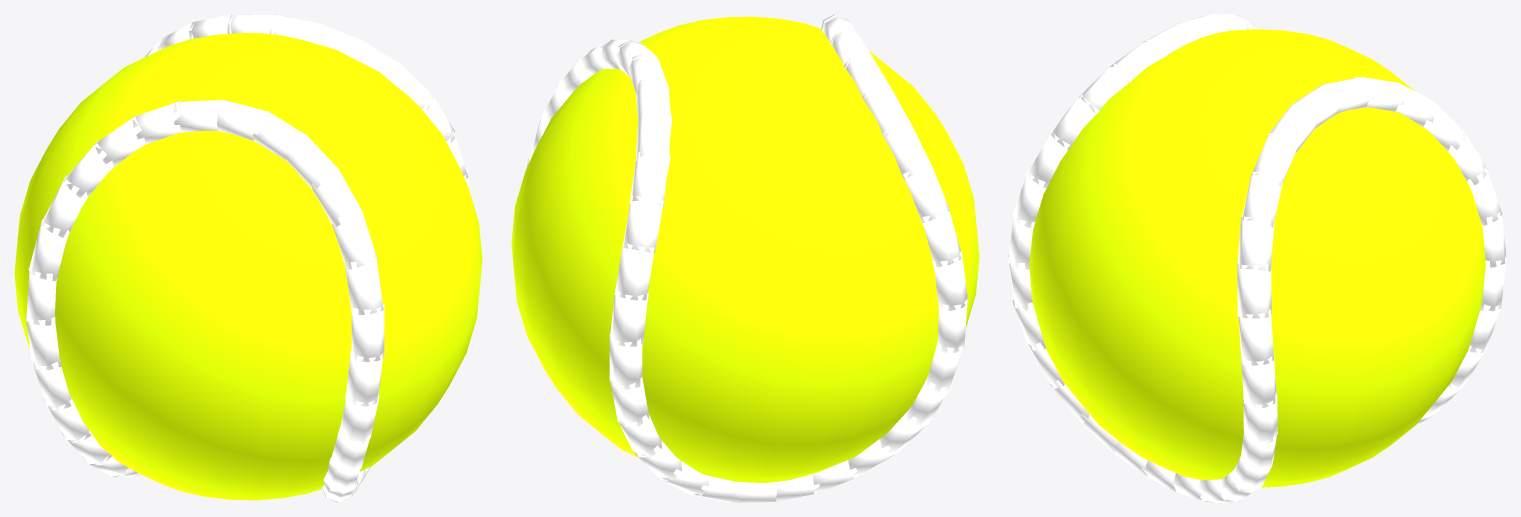
Rendered from tennis_ball.glb.
3 renders of one model, left to right at view 1: azimuth 30°, elevation 25°; view 2: azimuth 150°, elevation 25°; view 3: azimuth 270°, elevation 25°, orthographic.
Parts seen in each view (by area): view 1: TennisBall; view 2: TennisBall; view 3: TennisBall.
Part boxes in pixels (x1=…): TennisBall: x1=14, y1=14, x2=482, y2=502; TennisBall: x1=511, y1=14, x2=979, y2=502; TennisBall: x1=1008, y1=14, x2=1506, y2=502.
Size of the model in its own units: 0.1408 by 0.13 by 0.1408.
